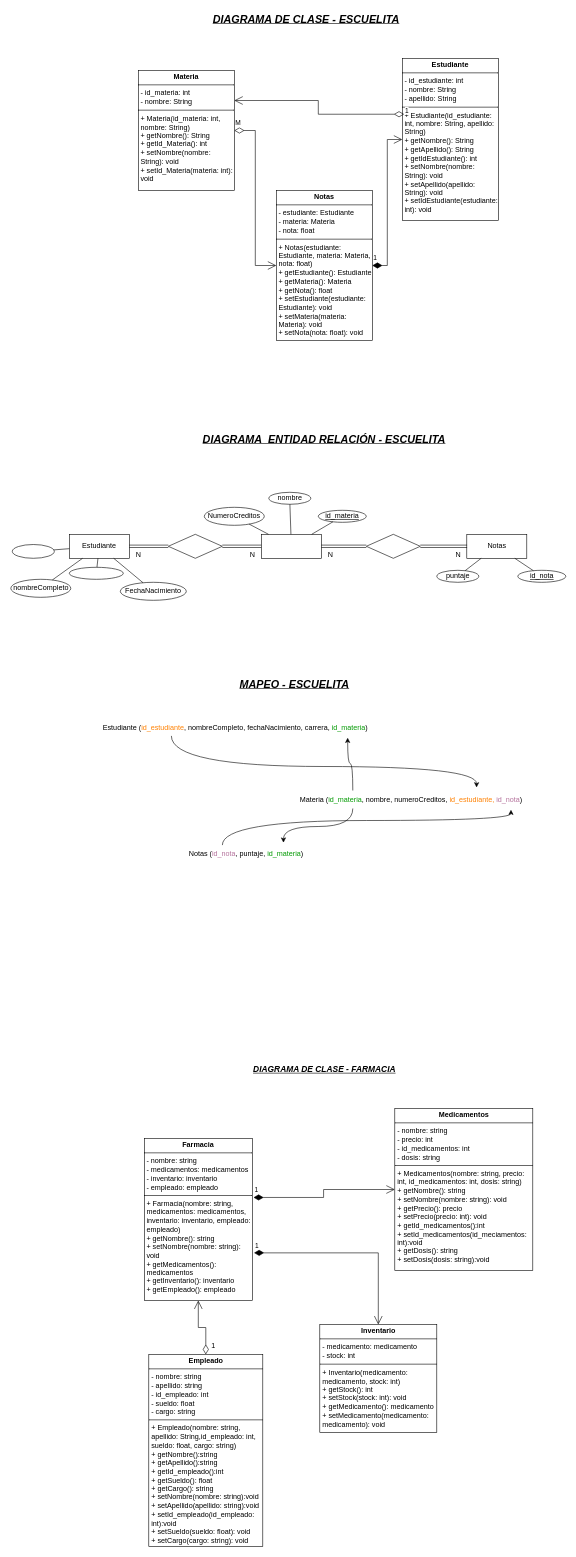
Some shapes in this 576 by 1557 pixel diagram are drawn without their labels. Each missing label, with the centre of its shape:
"carrera" belongs at point (33, 551).
"E/M" belongs at point (195, 546).
"id_estudiante" belongs at point (96, 573).
"M/N" belongs at point (393, 546).
"Materia" belongs at point (291, 546).
